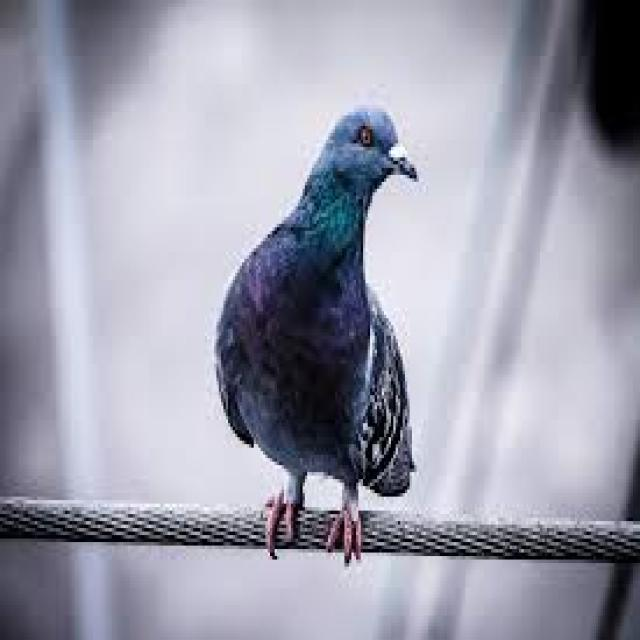pigeon: (189, 68, 473, 548)
